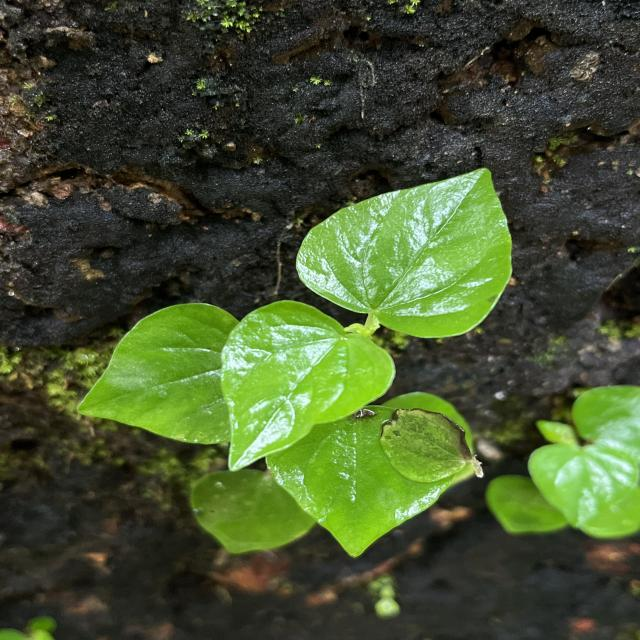Peperomia pellucida: (287, 160, 517, 340), (218, 295, 402, 474), (72, 300, 242, 450)
